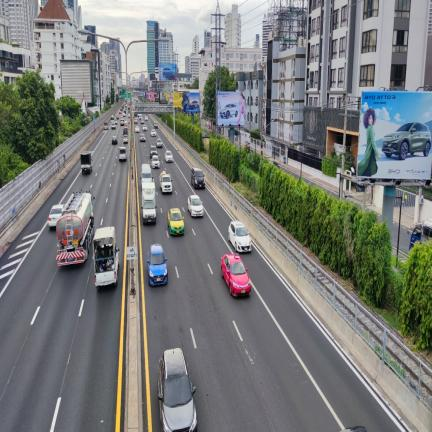car: (158, 349, 197, 430), (382, 122, 431, 160), (147, 244, 168, 284), (228, 221, 251, 251), (48, 204, 63, 229), (188, 195, 204, 215), (219, 103, 238, 118), (162, 67, 176, 80), (189, 100, 199, 110), (164, 150, 173, 161), (152, 155, 160, 167), (150, 145, 157, 157), (156, 137, 163, 147), (123, 135, 128, 143), (140, 133, 145, 141), (135, 126, 140, 133), (112, 136, 117, 143), (123, 127, 128, 134), (142, 124, 147, 131), (111, 122, 116, 129), (151, 129, 156, 136), (120, 119, 124, 125), (140, 118, 144, 124), (154, 122, 158, 128), (114, 119, 118, 124), (124, 121, 127, 127), (115, 115, 119, 119), (134, 118, 137, 123), (145, 116, 148, 120), (128, 113, 130, 118), (139, 113, 141, 118), (137, 114, 139, 117)
human: (357, 108, 380, 176), (237, 92, 244, 125)
pickup: (119, 147, 126, 161)
taxi: (221, 253, 251, 296), (168, 208, 184, 233)
truck: (56, 192, 93, 265), (93, 226, 119, 288), (409, 218, 432, 249), (141, 195, 157, 224), (160, 170, 172, 193), (81, 151, 92, 174), (104, 122, 108, 129)
van: (191, 167, 205, 188), (141, 181, 155, 200), (141, 164, 153, 182), (111, 115, 114, 119)
